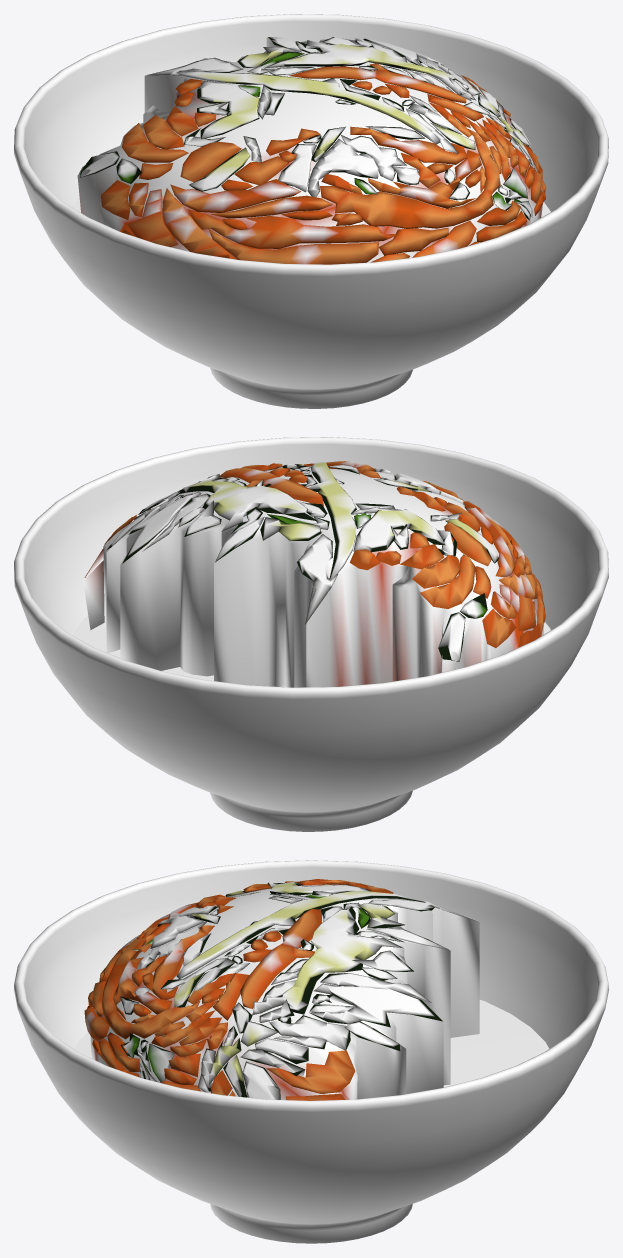
The picture shows the model from 3 angles, top to bottom: view 1: azimuth 30°, elevation 25°; view 2: azimuth 150°, elevation 25°; view 3: azimuth 270°, elevation 25°; orthographic projection. The views are drawn at different scales.
Parts seen in each view (by area): view 1: SM_D11; view 2: SM_D11; view 3: SM_D11.
Boxes of the visible parts, x1,y1,x2,y2 form: SM_D11: (14, 14, 608, 408); SM_D11: (14, 437, 608, 831); SM_D11: (14, 860, 608, 1243).
Size of the model in its own units: 0.17 by 0.0939 by 0.1745.
